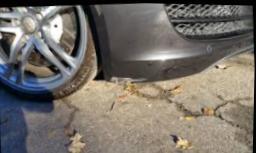Bumper: (101, 47, 227, 95)
